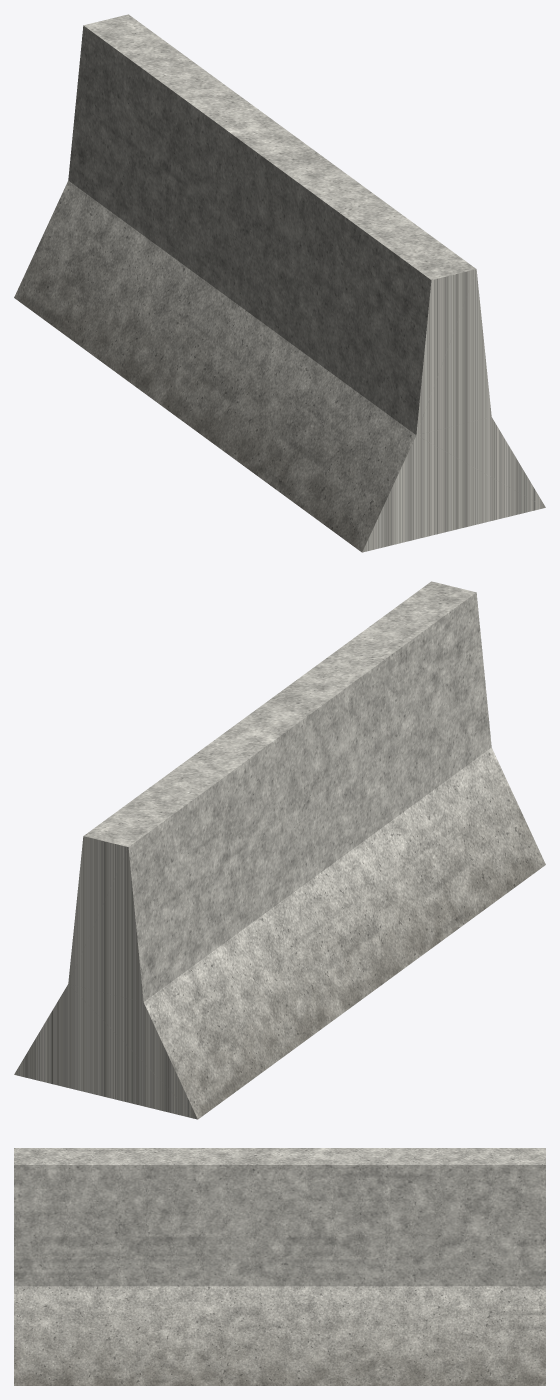
Rendered from SM_Morin_NewJersey_LOD2.fbx.
3 views of the same model, one above another, from view 1: azimuth 30°, elevation 25°; view 2: azimuth 150°, elevation 25°; view 3: azimuth 270°, elevation 25° (orthographic). The views are drawn at different scales.
Visible parts, largest first — view 1: SM_Morin_NewJersey_LOD2; view 2: SM_Morin_NewJersey_LOD2; view 3: SM_Morin_NewJersey_LOD2.
Part boxes in pixels (x1,y1,x2,y2): SM_Morin_NewJersey_LOD2: (14, 14, 545, 552); SM_Morin_NewJersey_LOD2: (14, 581, 545, 1119); SM_Morin_NewJersey_LOD2: (14, 1148, 545, 1385).
Size of the model in its own units: 61 by 200 by 81.
Materials: 1 (1 with a texture image).
